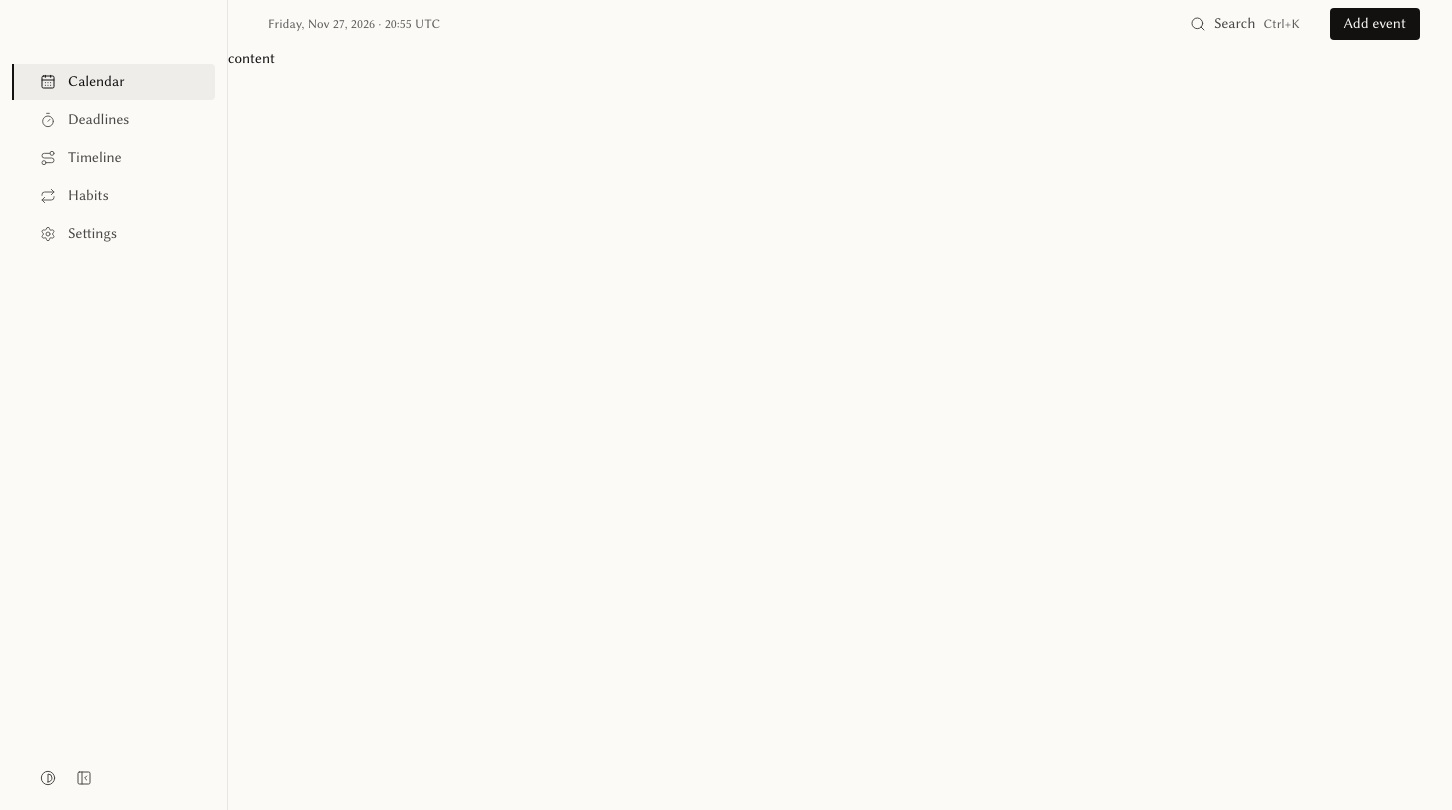
Test case: AppShell anatomy (DESIGN.md section 7) › collapses to icon-only items with accessible names and a labelled toggle
Click the button named "Collapse sidebar" at coordinates (84, 778), box [68,762,100,794]
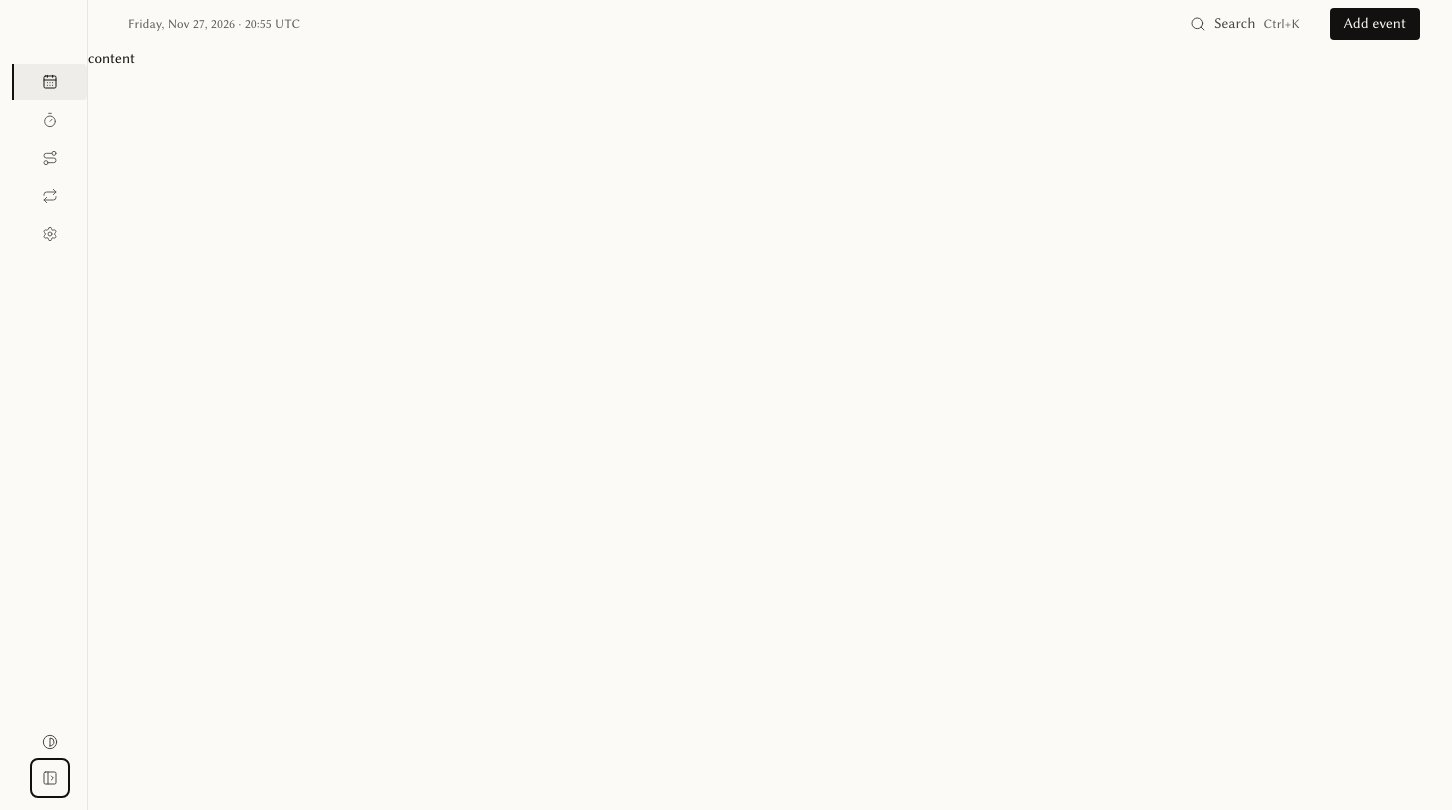
Expected: the button named "Deadlines" is shown, [12,102,87,138]
Expected: the button named "Expand sidebar" is collapsed, [34,762,66,794]
